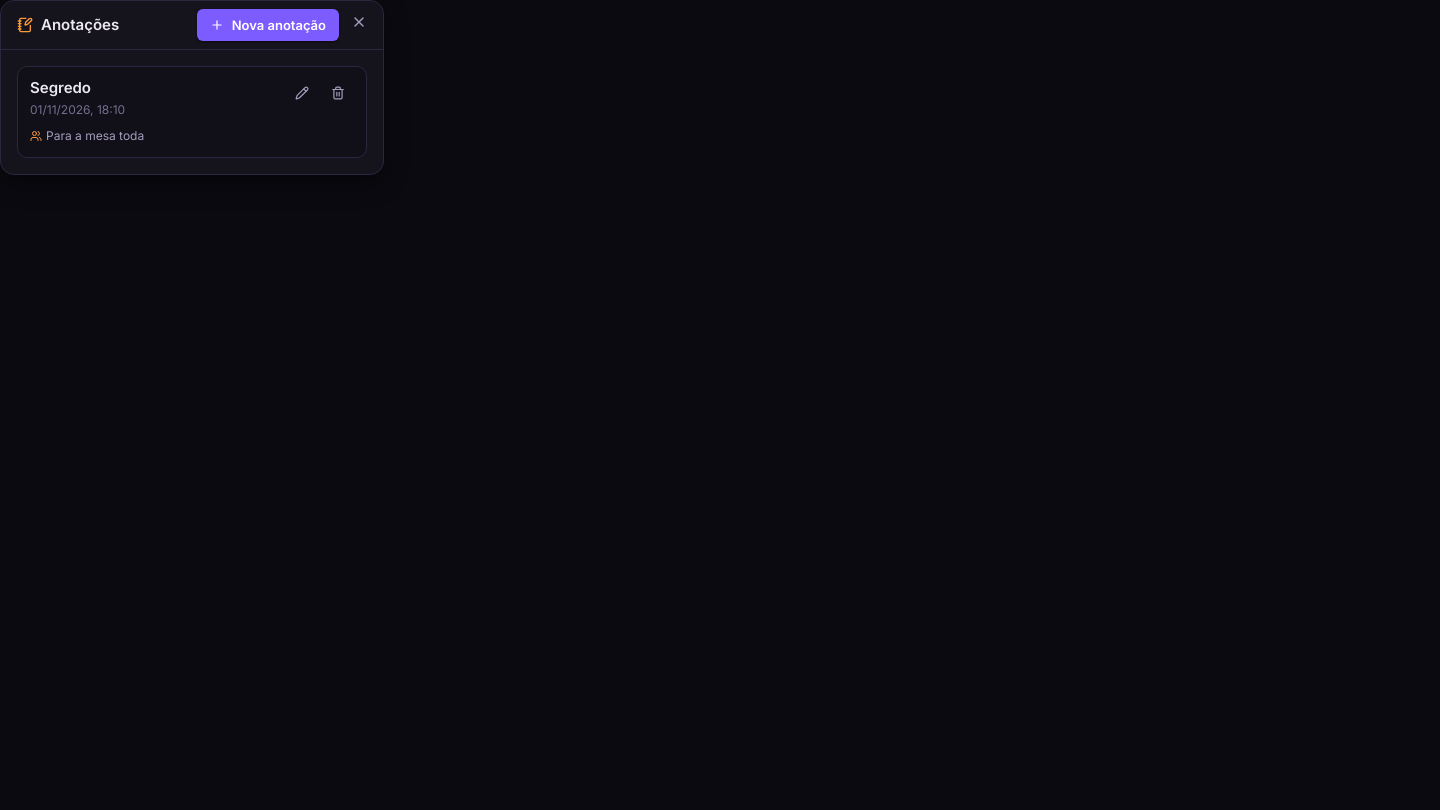
Test: apagar › shouldKeepTheWindowOpenAndShowTheFailureInsideIt
Click the button named "Apagar a anotação “Segredo”" at (338, 95), box [322,79,354,111]
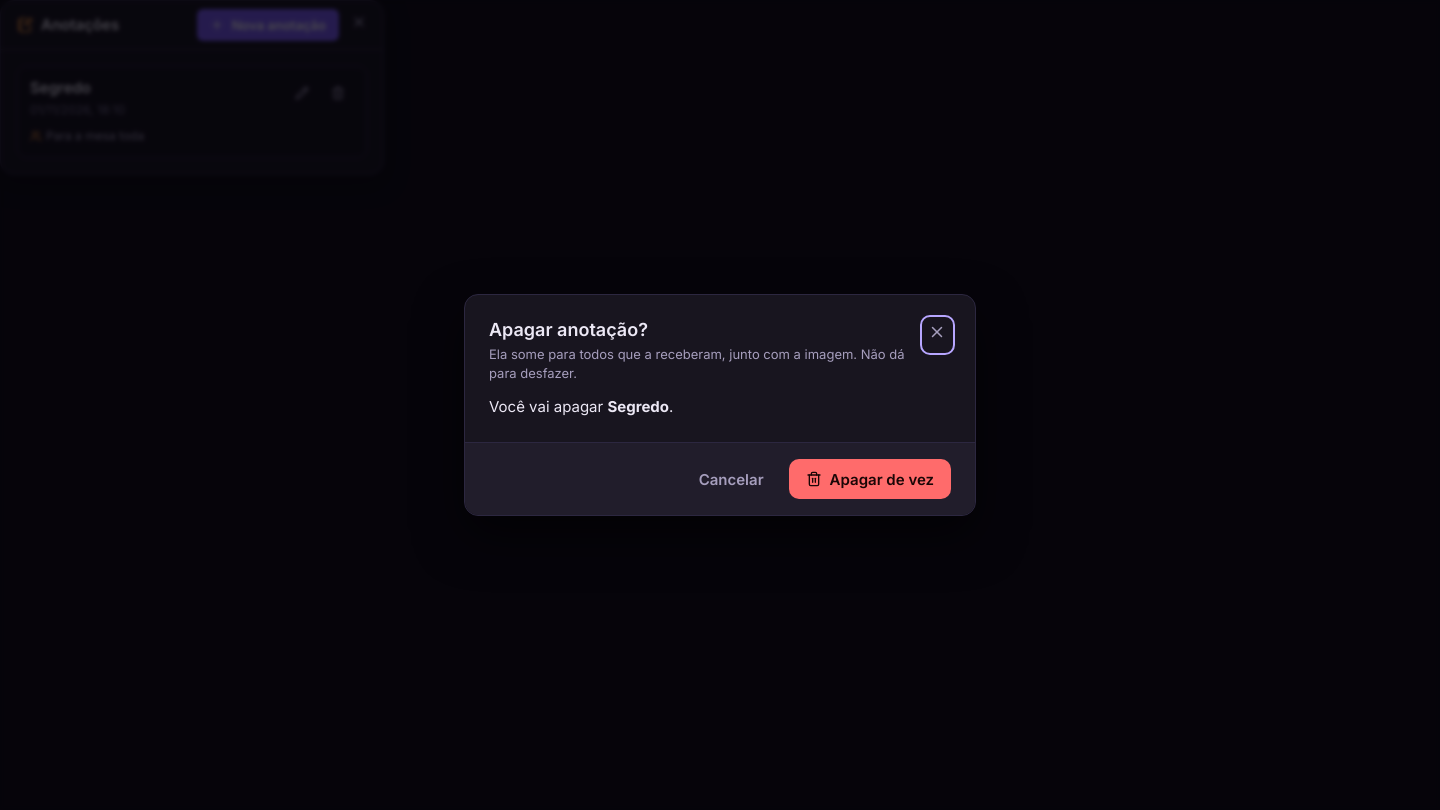
Click the button "Apagar de vez" at (870, 479), box [789,459,951,499]
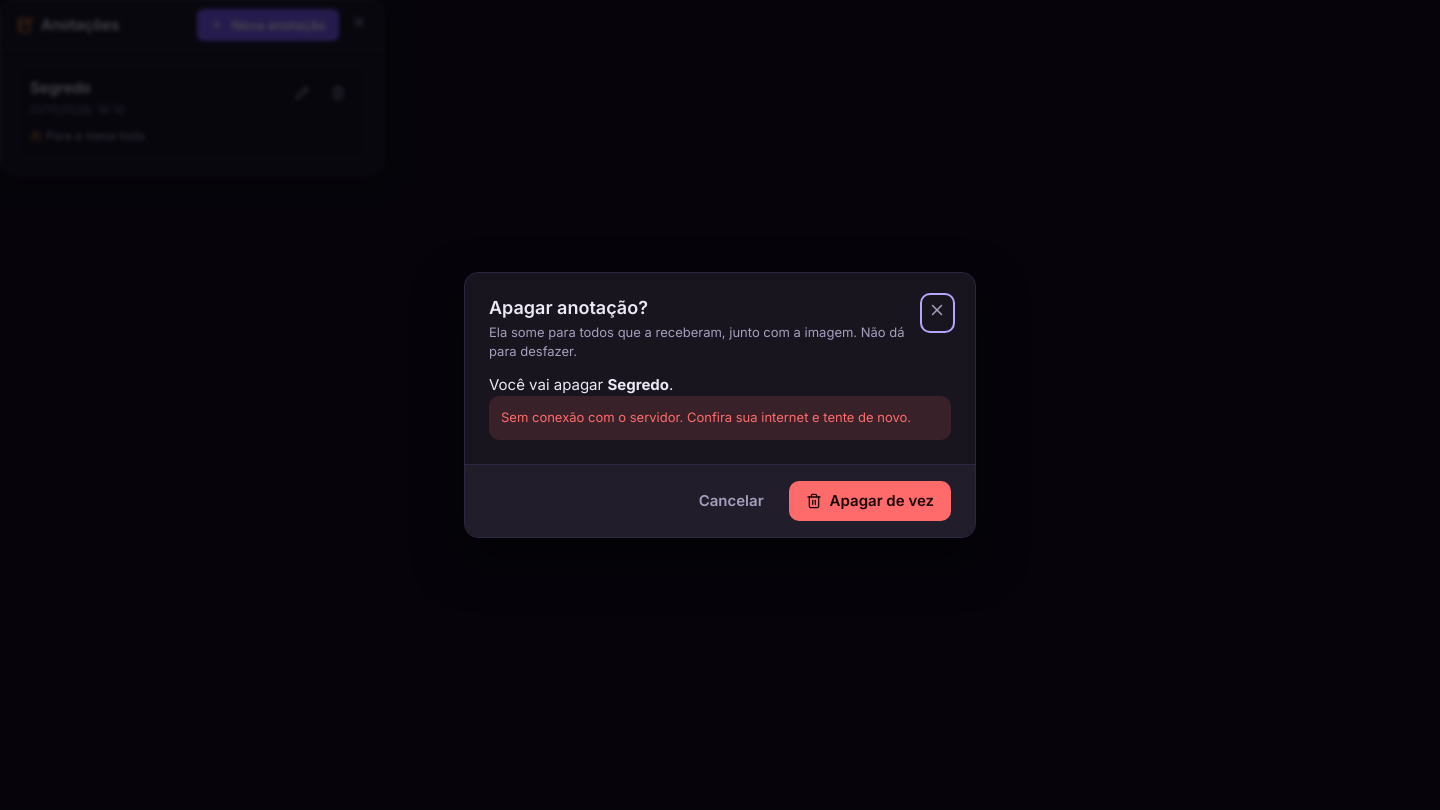
Now the dialog "Apagar anotação?" is shown, box [464,272,976,538]
Now the message shows "Sem conexão com o servidor", box [501,409,911,425]
